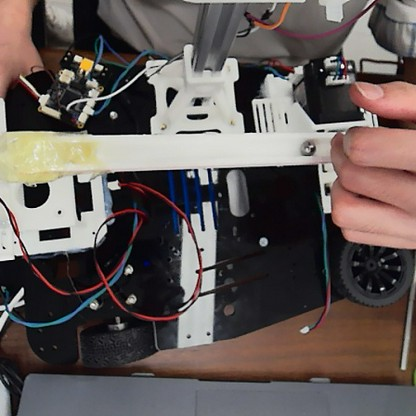ironball: (298, 138, 316, 156)
